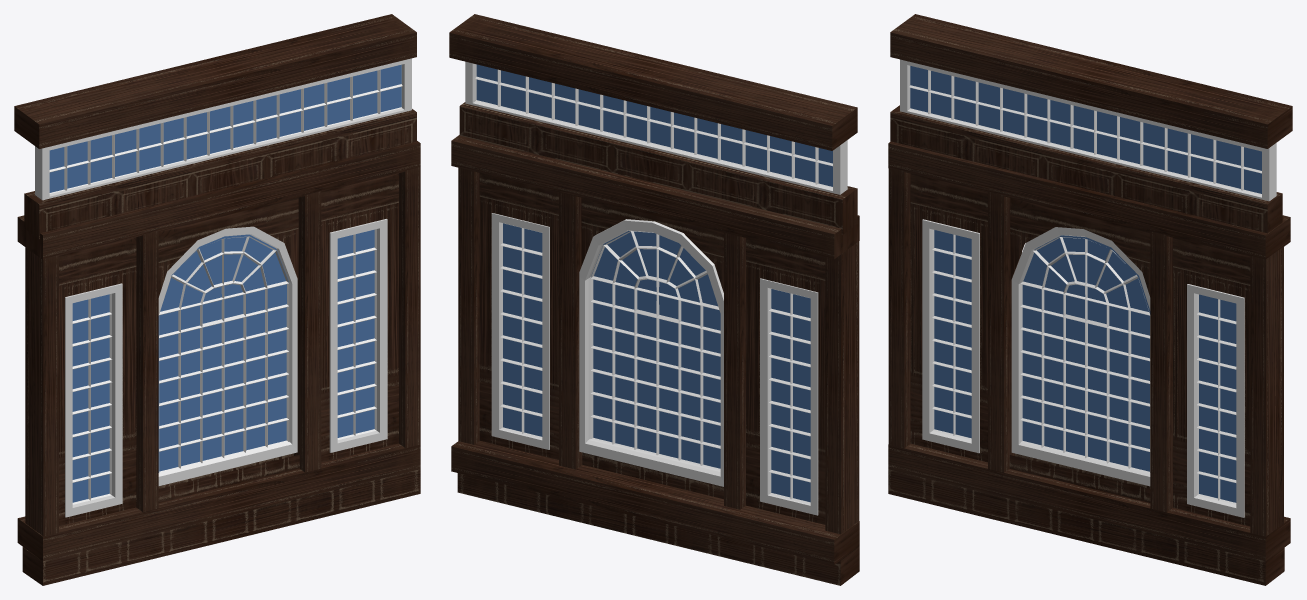
Rendered from walls (1).fbx.
3 renders of one model, left to right at view 1: azimuth 30°, elevation 25°; view 2: azimuth 150°, elevation 25°; view 3: azimuth 330°, elevation 25°, orthographic.
Visible parts, largest first — view 1: TripleWindow_Wallpiece, Glass pane, WindowFrames003, GlassWindowFrame047; view 2: TripleWindow_Wallpiece, Glass pane, WindowFrames003, GlassWindowFrame047; view 3: TripleWindow_Wallpiece, Glass pane, WindowFrames003, GlassWindowFrame047.
Part boxes in pixels (x1,y1,x2,y2): TripleWindow_Wallpiece: (14,14,420,585); Glass pane: (49,64,401,502); WindowFrames003: (35,58,411,517); GlassWindowFrame047: (49,65,402,504); TripleWindow_Wallpiece: (449,14,859,585); Glass pane: (476,64,832,502); WindowFrames003: (465,61,847,515); GlassWindowFrame047: (475,64,832,504); TripleWindow_Wallpiece: (888,14,1292,585); Glass pane: (910,66,1261,502); WindowFrames003: (900,59,1276,517); GlassWindowFrame047: (909,70,1261,504).
Bounding box in the file's own units: 298 × 345 × 37.96.
